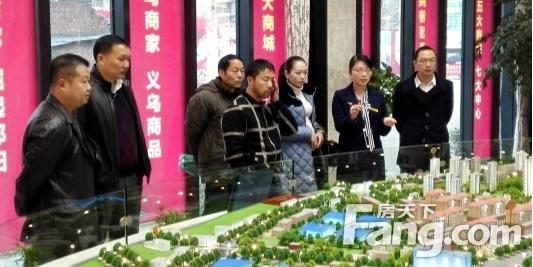person: (12, 53, 104, 263), (76, 34, 152, 241), (220, 59, 298, 210), (183, 53, 246, 216), (331, 54, 396, 182), (391, 44, 454, 173), (277, 55, 325, 194)
